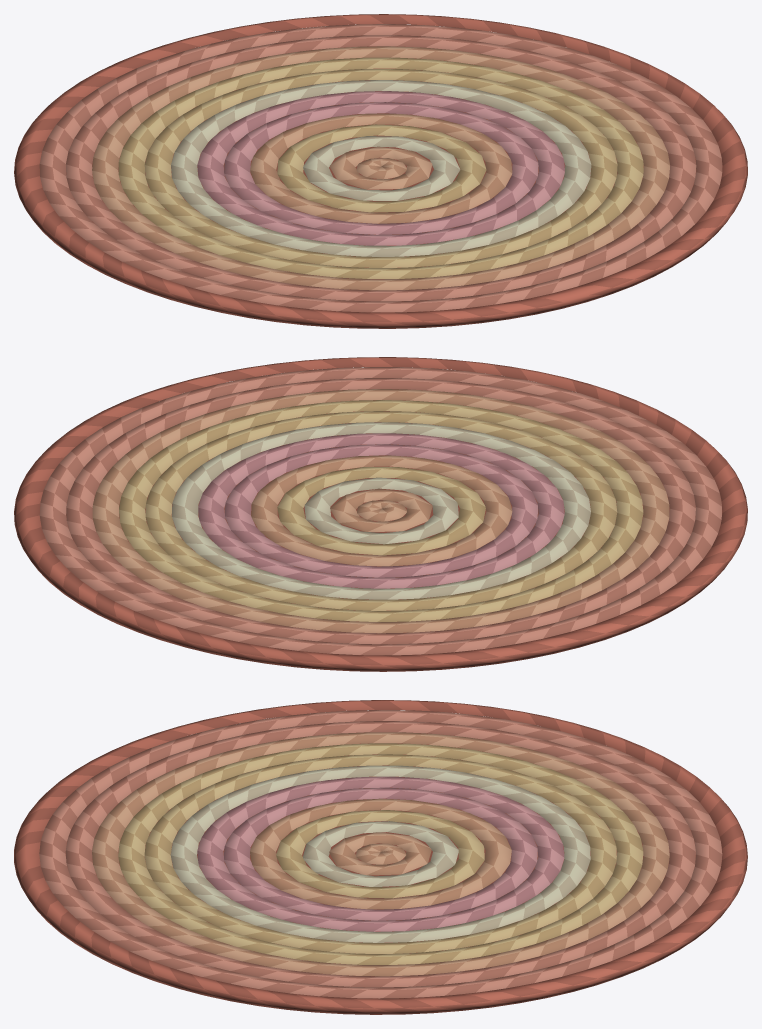
File: furn-ragRug.glb
3 renders of one model, top to bottom at view 1: azimuth 30°, elevation 25°; view 2: azimuth 150°, elevation 25°; view 3: azimuth 270°, elevation 25°, orthographic.
Parts seen in each view (by area): view 1: furn-ragRug; view 2: furn-ragRug; view 3: furn-ragRug.
Part boxes in pixels (x1,y1,x2,y2): furn-ragRug: (14,14,747,328); furn-ragRug: (14,357,747,671); furn-ragRug: (14,700,747,1014).
Bounding box in the file's own units: 1.95 × 0.029 × 1.95.
